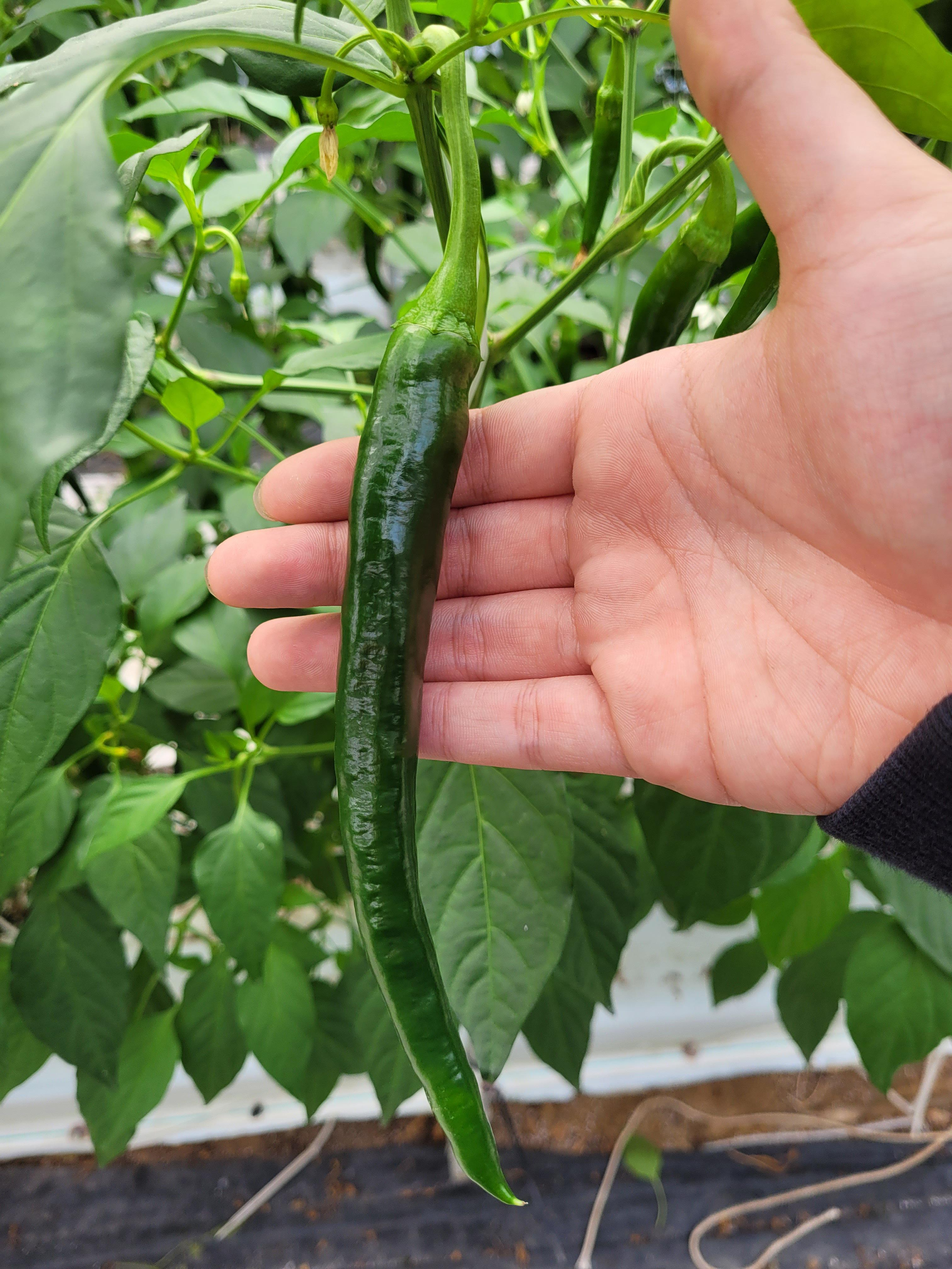Buah Cabai Sehat: (328, 281, 529, 1209)
